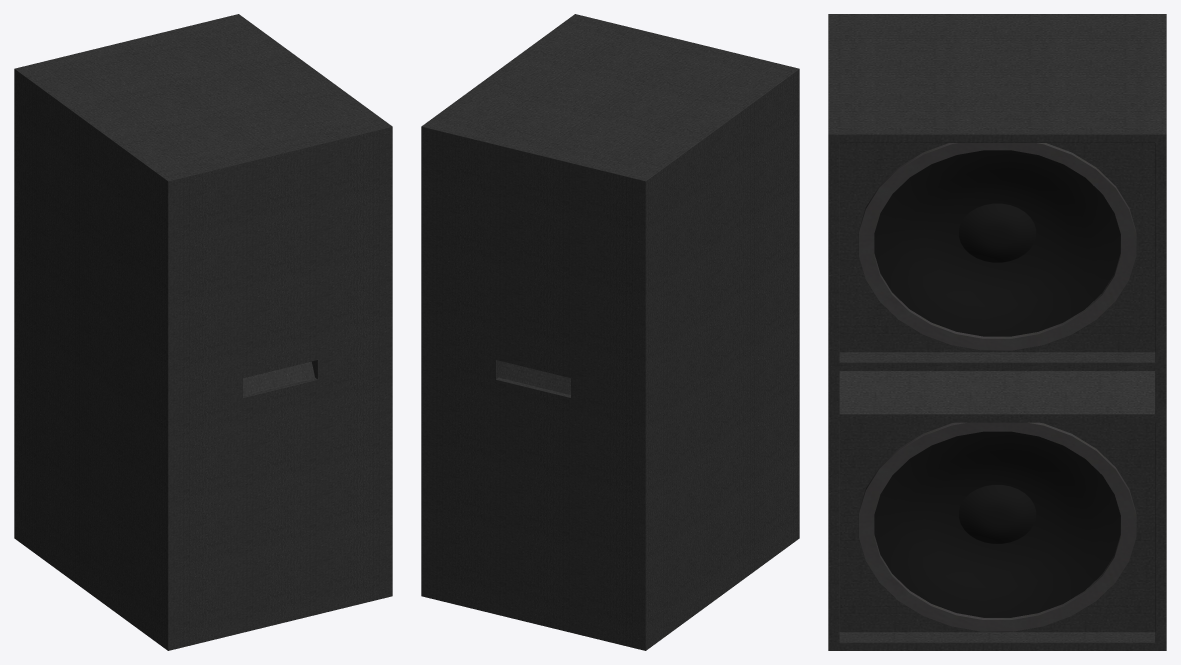
The model's file is speaker.fbx.
3 renders of one model, left to right at view 1: azimuth 30°, elevation 25°; view 2: azimuth 150°, elevation 25°; view 3: azimuth 270°, elevation 25°, orthographic. The views are drawn at different scales.
Parts seen in each view (by area): view 1: Stage Speaker 60x60x120.001; view 2: Stage Speaker 60x60x120.001; view 3: Stage Speaker 60x60x120.001.
Part boxes in pixels (x1,y1,x2,y2): Stage Speaker 60x60x120.001: [14, 14, 392, 650]; Stage Speaker 60x60x120.001: [421, 14, 799, 650]; Stage Speaker 60x60x120.001: [828, 14, 1166, 650].
Size of the model in its own units: 538 by 1076 by 638.
1 material, 1 textured.
